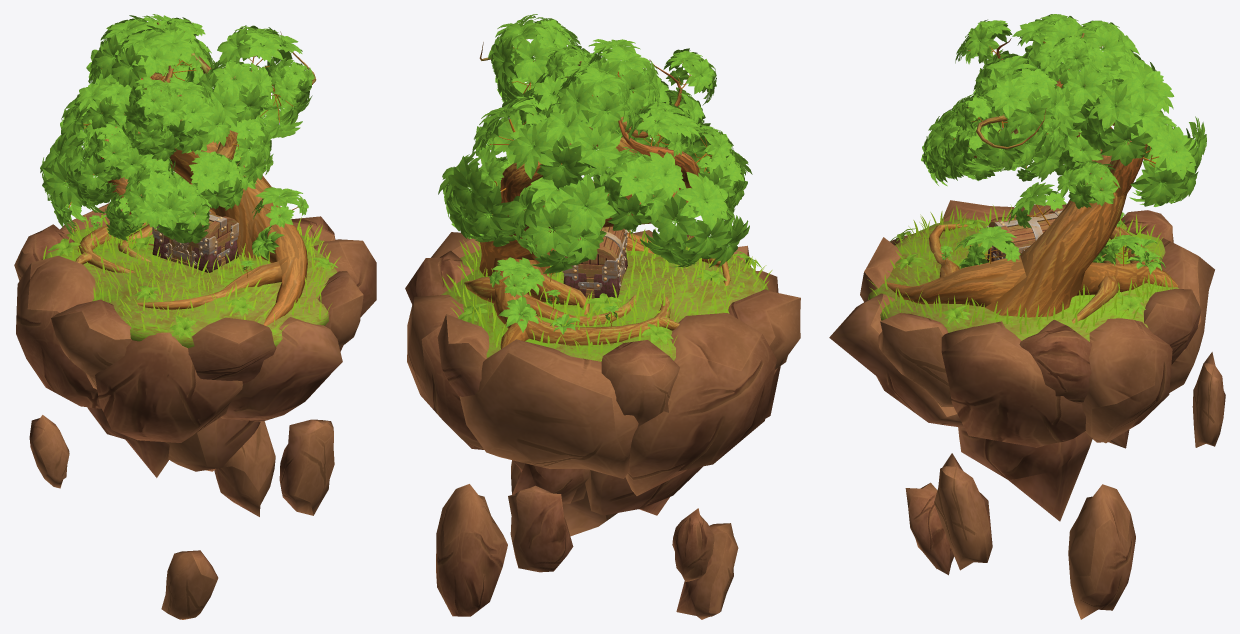
The model's file is showcaseFloatingIslandWorld.801440e6.glb.
3 views of the same model, side by side, from view 1: azimuth 30°, elevation 25°; view 2: azimuth 150°, elevation 25°; view 3: azimuth 270°, elevation 25° (orthographic). The views are drawn at different scales.
Visible parts, largest first — view 1: Leaf_01_LP, Rock_02_LP, Rock_01_LP, Ground, Tree_01_LP, Grass_01, Plant_01_LP, Cloth_01_LP; view 2: Leaf_01_LP, Rock_01_LP, Rock_02_LP, Tree_01_LP, Ground, Grass_01, Plant_01_LP, Cloth_01_LP, Sticks_01; view 3: Leaf_01_LP, Rock_01_LP, Rock_02_LP, Tree_01_LP, Ground, Grass_01, Plant_01_LP, Top_05_LP.
Boxes of the visible parts, <box> form: Leaf_01_LP: <box>40,14,314,272</box>; Rock_02_LP: <box>51,271,363,619</box>; Rock_01_LP: <box>14,203,376,516</box>; Ground: <box>42,224,337,348</box>; Tree_01_LP: <box>75,22,316,325</box>; Grass_01: <box>43,213,340,332</box>; Plant_01_LP: <box>48,237,337,338</box>; Cloth_01_LP: <box>152,237,238,272</box>; Leaf_01_LP: <box>438,14,752,334</box>; Rock_01_LP: <box>405,232,780,616</box>; Rock_02_LP: <box>437,230,800,619</box>; Tree_01_LP: <box>464,42,730,348</box>; Ground: <box>441,244,768,361</box>; Grass_01: <box>442,228,772,355</box>; Plant_01_LP: <box>458,251,761,343</box>; Cloth_01_LP: <box>563,249,627,297</box>; Sticks_01: <box>489,39,726,327</box>; Leaf_01_LP: <box>921,14,1206,274</box>; Rock_01_LP: <box>889,204,1214,619</box>; Rock_02_LP: <box>829,200,1225,575</box>; Tree_01_LP: <box>883,33,1177,323</box>; Ground: <box>868,218,1178,341</box>; Grass_01: <box>867,204,1172,333</box>; Plant_01_LP: <box>890,215,1145,323</box>; Top_05_LP: <box>1003,213,1055,247</box>.
Size of the model in its own units: 4.43 by 7.11 by 4.55.
Materials: 7 (7 with a texture image).
